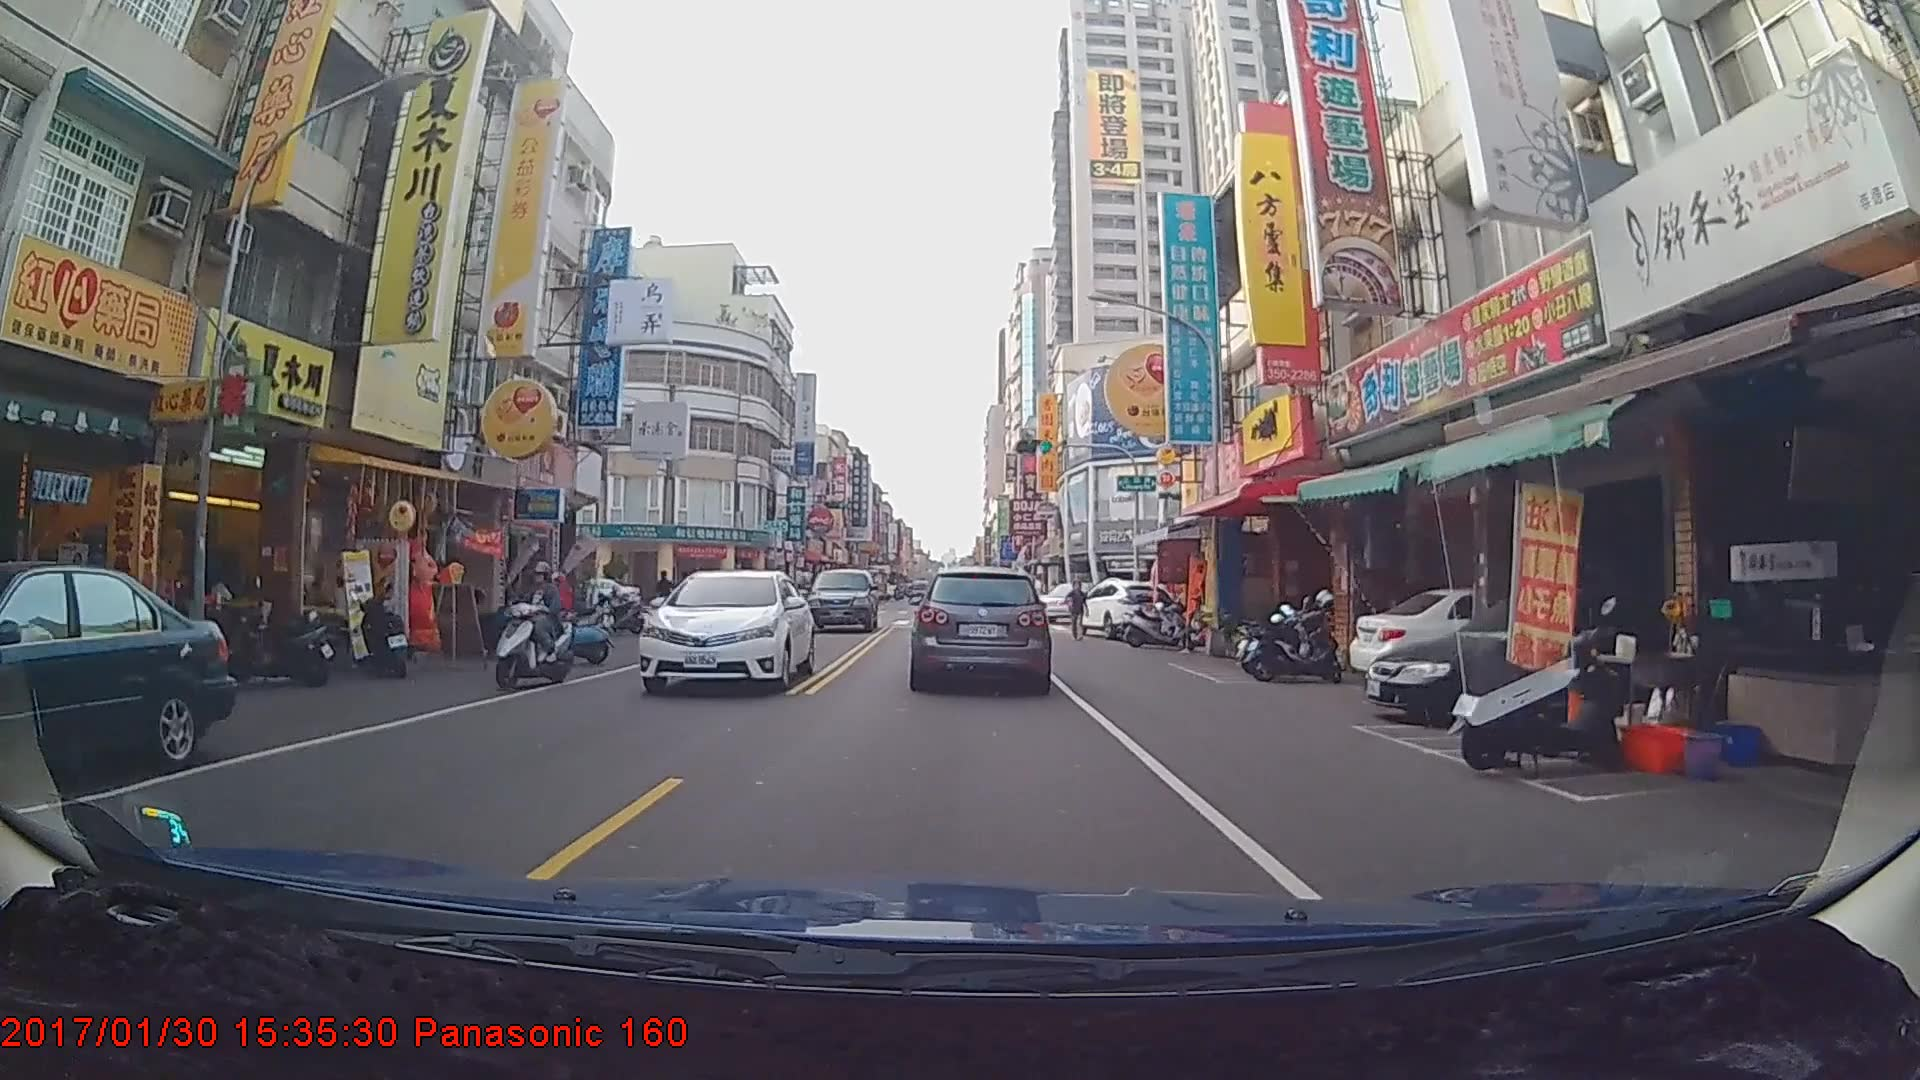pedestrian: (1068, 583, 1089, 645)
rider: (489, 562, 589, 697)
vehicle: (0, 563, 233, 786), (636, 568, 814, 697), (911, 567, 1048, 690), (1075, 577, 1177, 639), (802, 568, 879, 635)
